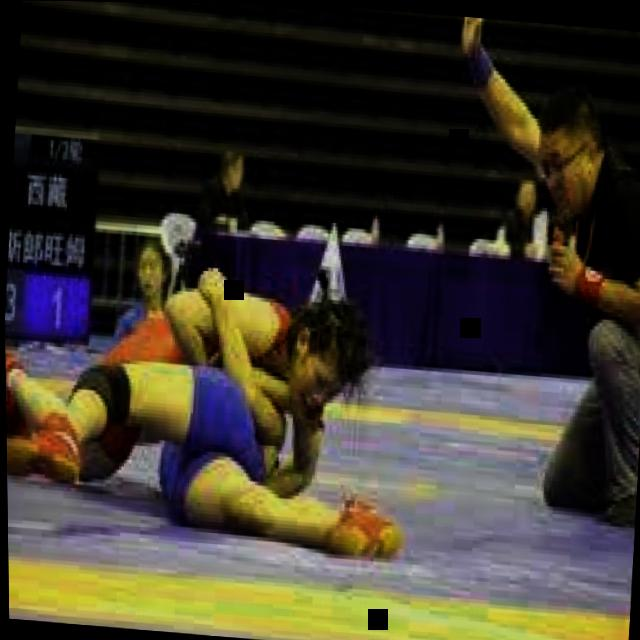Fall-Detected: (3, 249, 402, 553)
